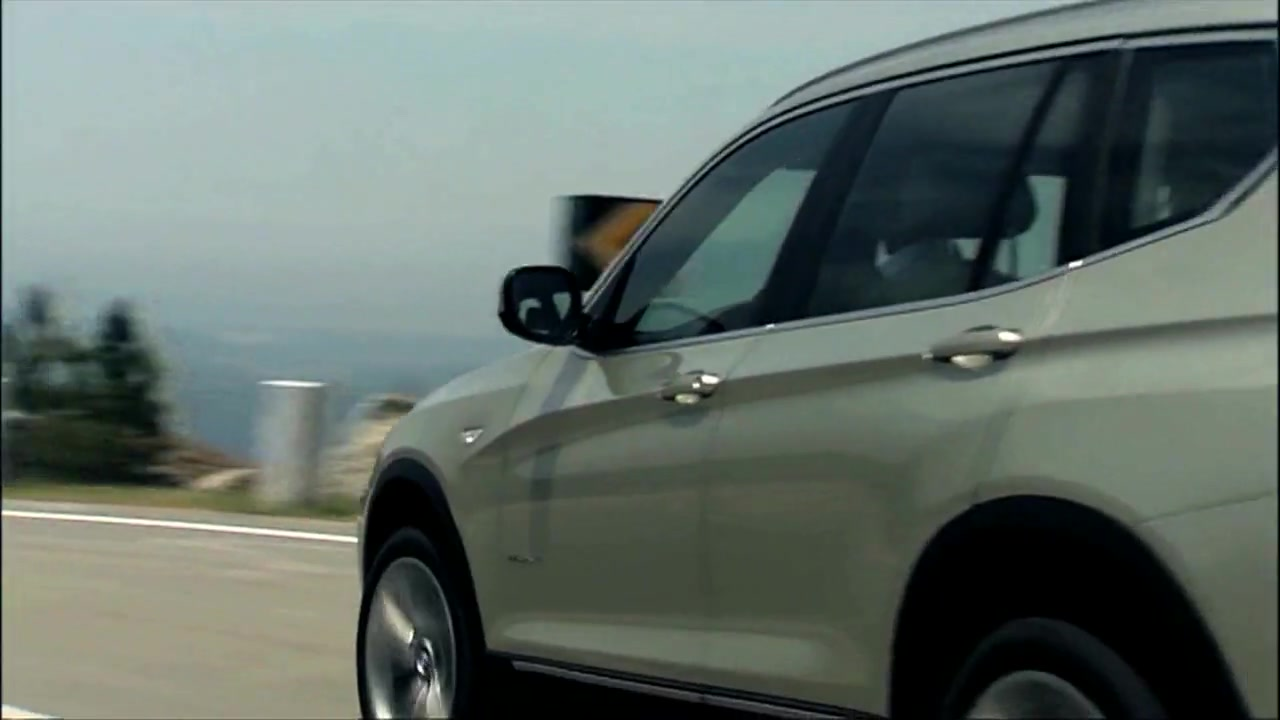car: (355, 3, 1280, 716)
